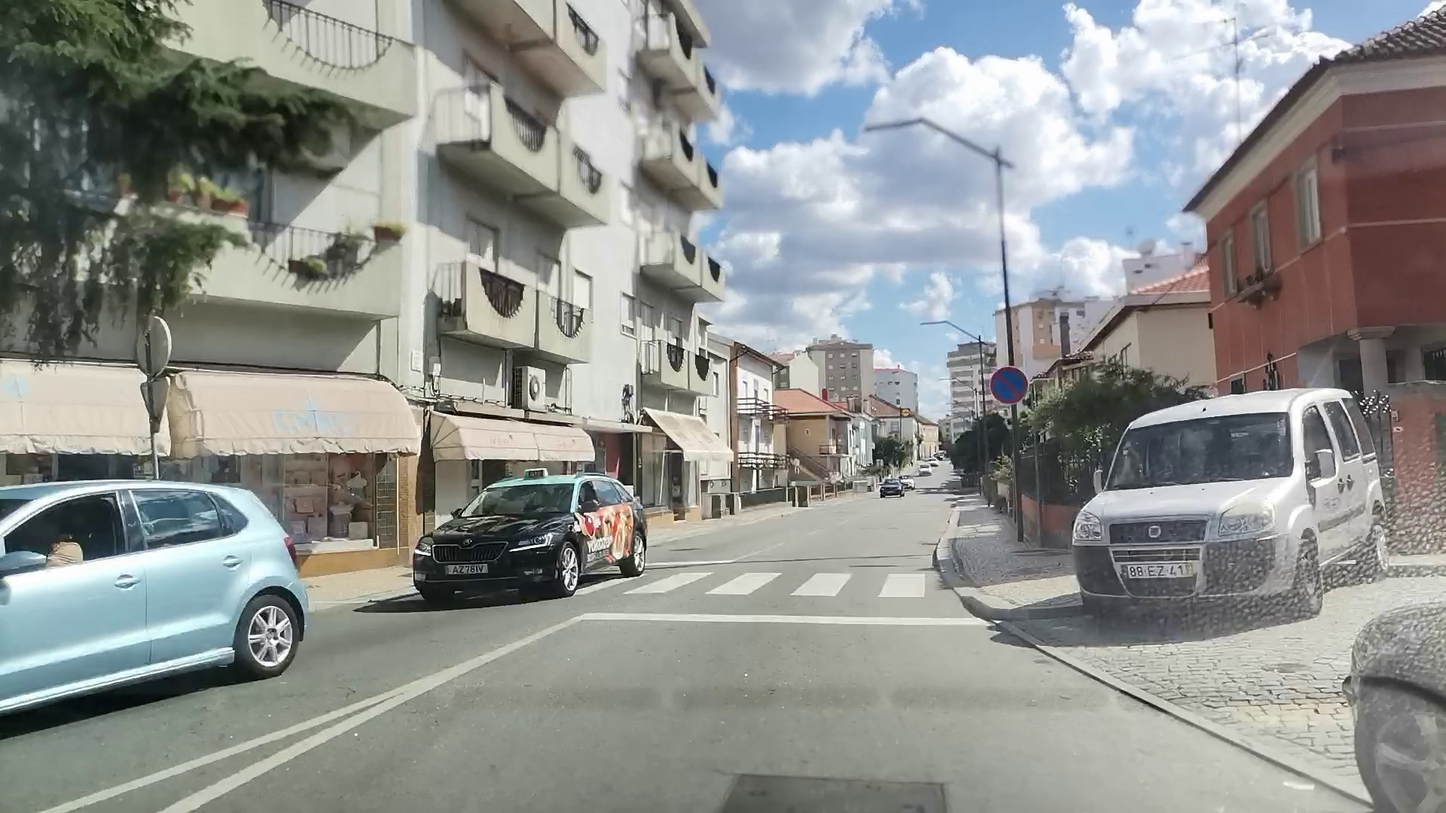Stairs: (614, 561, 936, 601)
